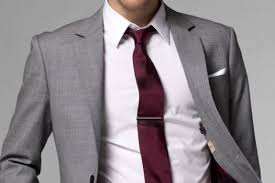tie: (121, 25, 182, 178)
